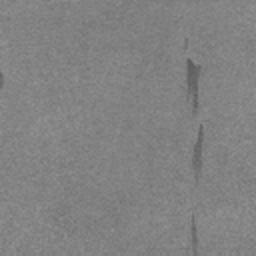Red iron sheet: (186, 58, 201, 114), (191, 124, 205, 184), (191, 215, 198, 256), (183, 36, 189, 50), (0, 70, 4, 90)
